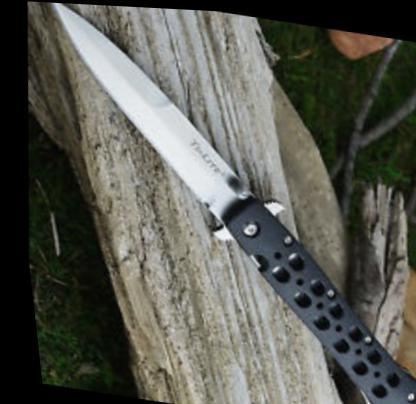knife: (22, 1, 277, 221)
